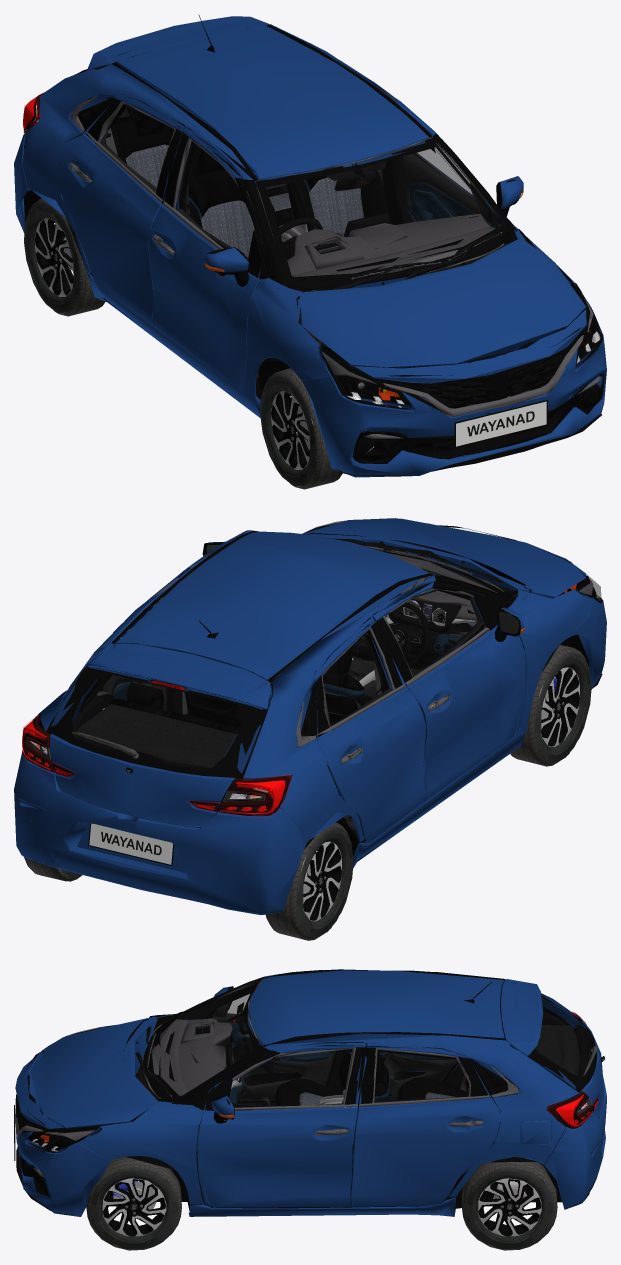
File: player-hatch.glb
The picture shows the model from 3 angles, top to bottom: view 1: azimuth 30°, elevation 25°; view 2: azimuth 150°, elevation 25°; view 3: azimuth 270°, elevation 25°; orthographic projection. The views are drawn at different scales.
Parts seen in each view (by area): view 1: chassis, bumrof, glass, mc, door.003, suzuki, seat, wheel, wheel.001, door, wiper, carry (+5 smaller); view 2: bumrof, chassis, boot, mc, door.003, carry, wheel.001, wheel, suzuki, seat, margau, wiper (+9 smaller); view 3: chassis, door, bumrof, door.002, glass, boot, wheel.002, wheel.003, suzuki, mc, wiper, carry (+9 smaller).
Boxes of the visible parts, box(x1,y1,x2,y2) form: chassis: box(22, 24, 606, 477); bumrof: box(14, 25, 430, 232); glass: box(78, 98, 602, 410); mc: box(148, 127, 264, 393); door.003: box(58, 94, 184, 325); suzuki: box(266, 212, 494, 328); seat: box(185, 145, 546, 446); wheel: box(260, 368, 342, 489); wheel.001: box(24, 199, 105, 316); door: box(372, 81, 523, 228); wiper: box(69, 96, 516, 291); carry: box(118, 107, 390, 245); bumrof: box(14, 531, 430, 915); chassis: box(27, 518, 606, 912); boot: box(47, 643, 271, 825); mc: box(373, 582, 525, 802); door.003: box(314, 617, 426, 843); carry: box(74, 678, 274, 768); wheel.001: box(265, 822, 353, 940); wheel: box(510, 644, 591, 766); suzuki: box(351, 553, 496, 669); seat: box(102, 648, 410, 735); margau: box(219, 734, 289, 815); wiper: box(251, 530, 517, 746); chassis: box(14, 970, 590, 1216); door: box(197, 1042, 365, 1207); bumrof: box(247, 970, 606, 1209); door.002: box(350, 1043, 500, 1206); glass: box(27, 979, 507, 1152); boot: box(501, 979, 604, 1118); wheel.002: box(462, 1162, 557, 1250); wheel.003: box(86, 1157, 181, 1250); suzuki: box(151, 1018, 273, 1103); mc: box(210, 982, 335, 1100); wiper: box(135, 977, 518, 1105); carry: box(341, 1025, 579, 1103).
Bounding box in the file's own units: 1.85 × 1.53 × 3.79.
Materials: 24 (15 with a texture image).
